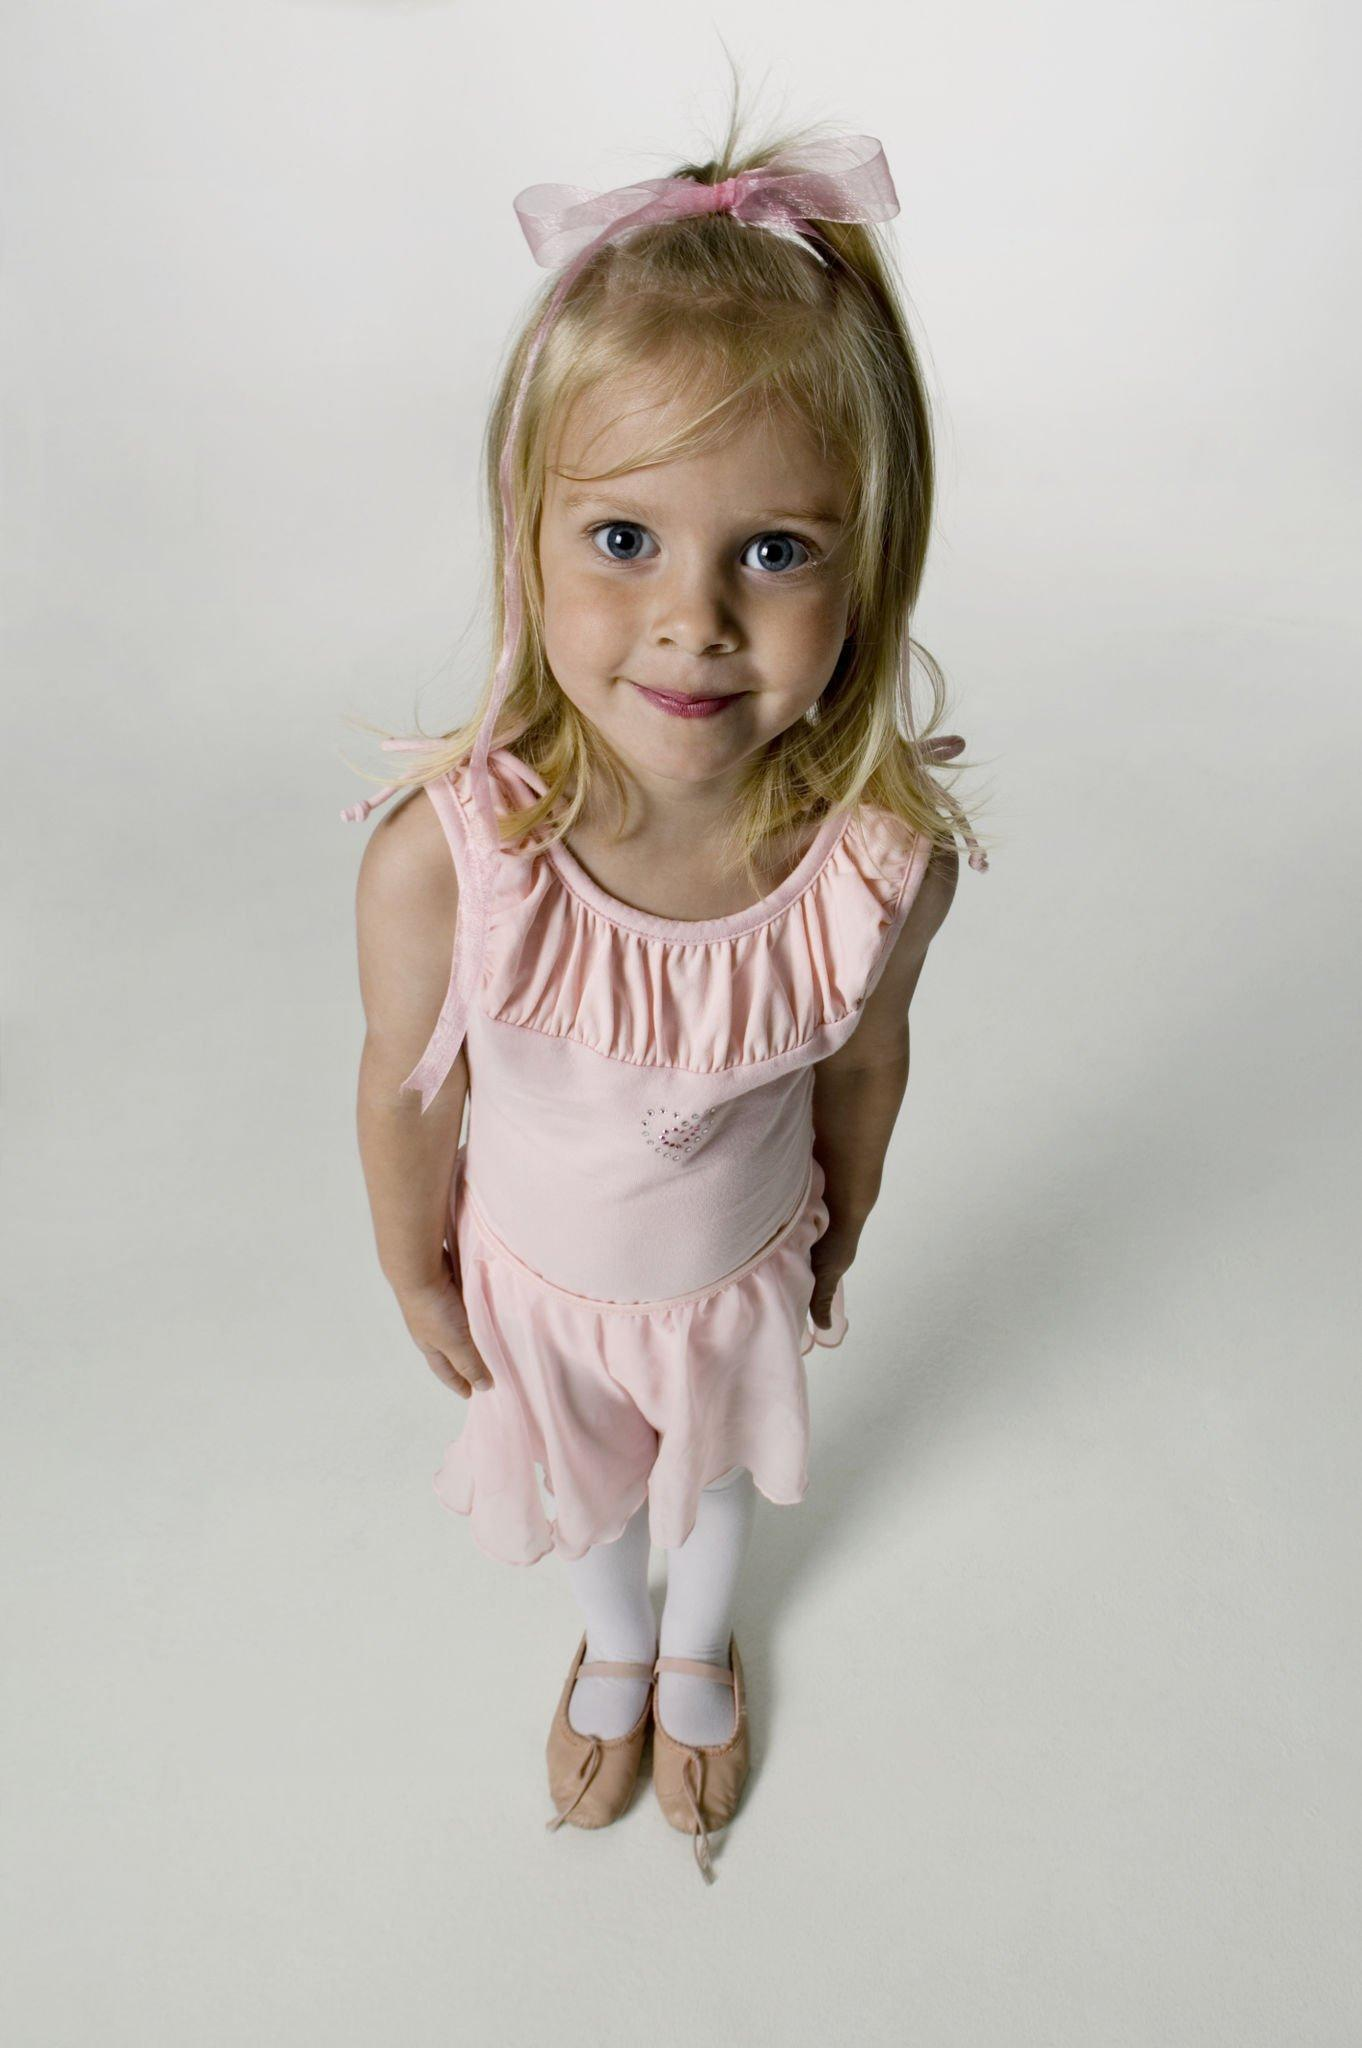Healthy: (521, 322, 869, 830)
